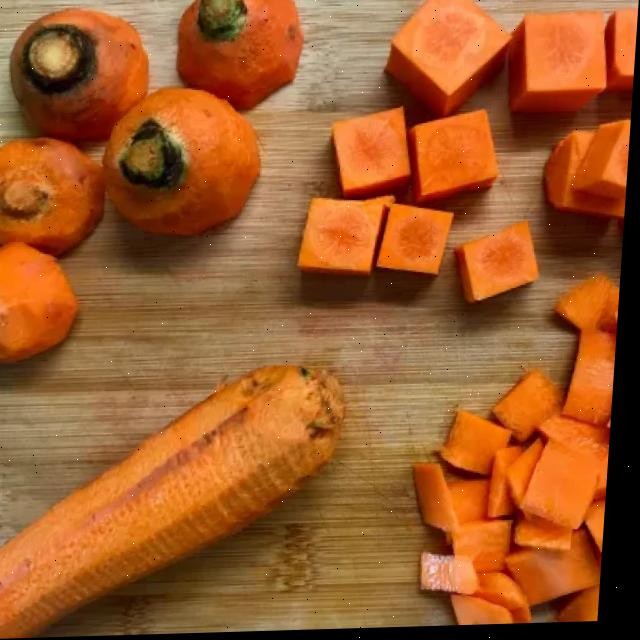Wet: (0, 363, 351, 640), (102, 86, 268, 241), (4, 4, 157, 143), (329, 109, 506, 209), (384, 0, 517, 124), (173, 0, 308, 113), (0, 137, 113, 261), (505, 15, 638, 120), (301, 197, 460, 280), (0, 242, 87, 367), (543, 122, 633, 224), (521, 437, 616, 533), (457, 222, 549, 306), (511, 537, 611, 612), (443, 410, 522, 482), (566, 330, 622, 431), (498, 373, 572, 443), (556, 269, 625, 338), (421, 460, 473, 537), (425, 554, 493, 602)
